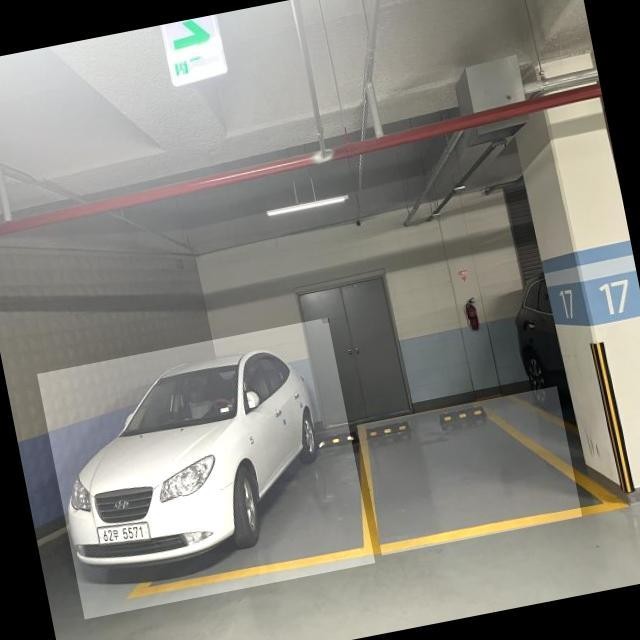empty: (357, 386, 582, 555)
occupied: (38, 318, 376, 620)
